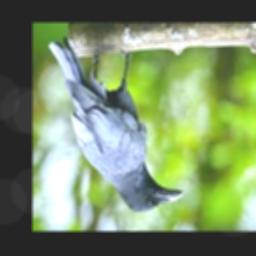Crow: (48, 37, 184, 212)
